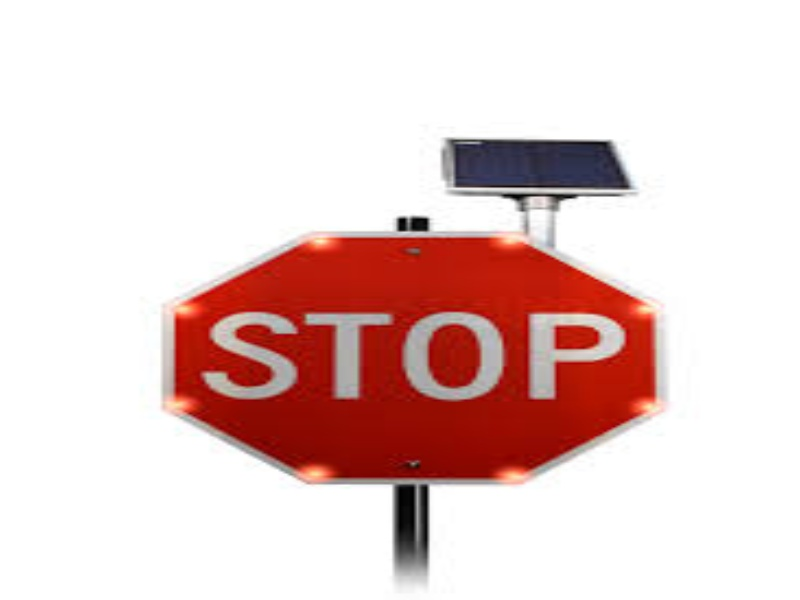Stop_Sign: (159, 231, 665, 491)
